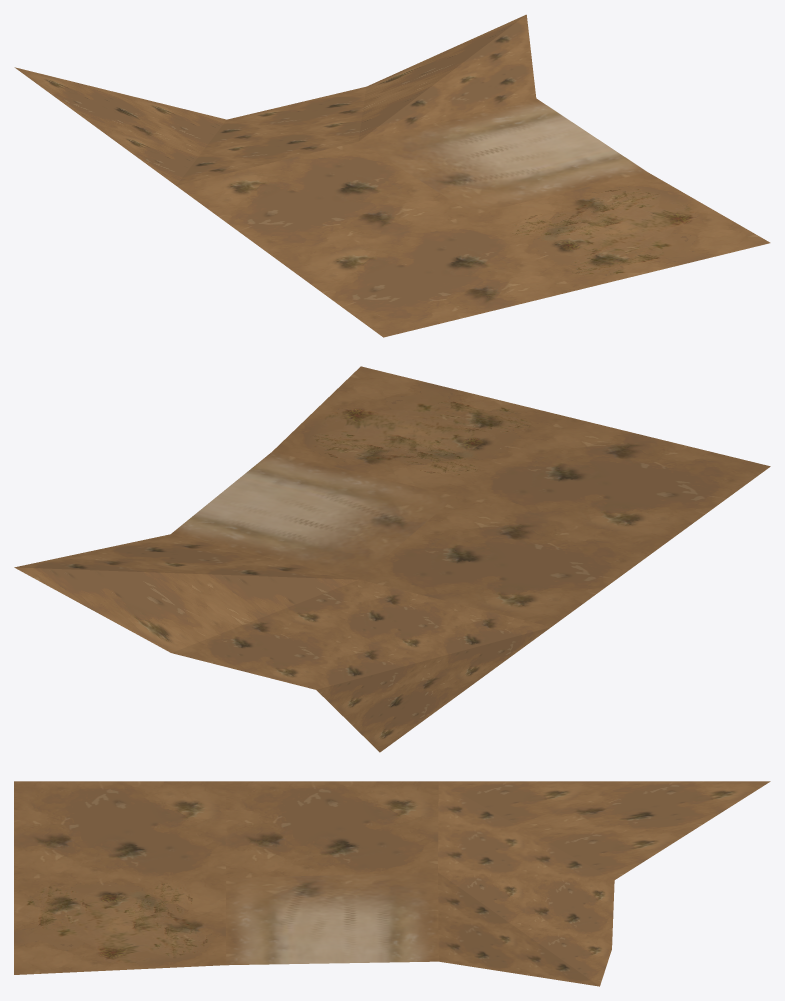
3 views of the same model, one above another, from view 1: azimuth 30°, elevation 25°; view 2: azimuth 150°, elevation 25°; view 3: azimuth 270°, elevation 25° (orthographic). The views are drawn at different scales.
Parts seen in each view (by area): view 1: 6; view 2: 6; view 3: 6.
Part boxes in pixels (x1,y1,x2,y2): 6: [14, 14, 770, 337]; 6: [14, 366, 770, 752]; 6: [14, 781, 770, 986].
Bounding box in the file's own units: 5122 × 445 × 7635.
3 materials, 3 textured.
